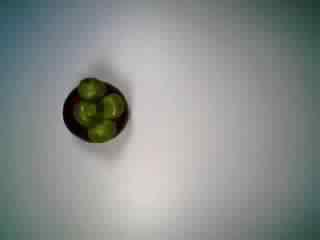mangosteen: (57, 69, 134, 146)
